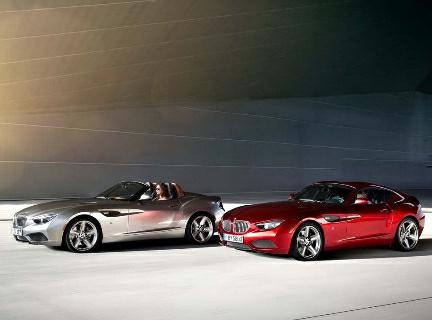宝马-ZagatoCoupe: (208, 176, 432, 266), (4, 176, 232, 260)
